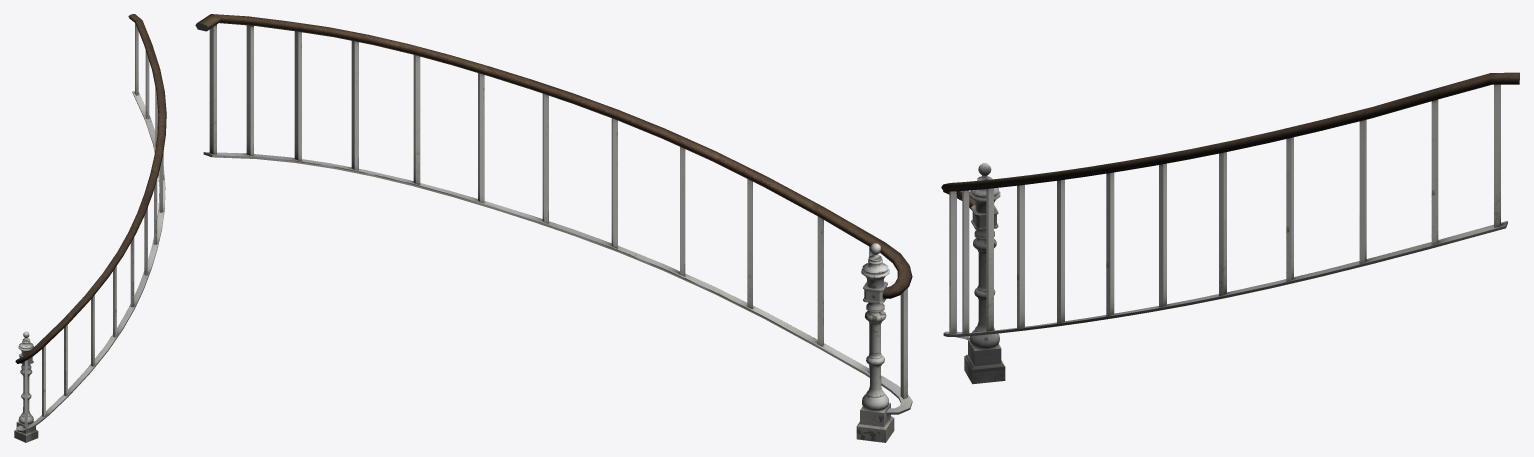
File: railing_mansion_steps01.glb
The picture shows the model from 3 angles, left to right: view 1: azimuth 30°, elevation 25°; view 2: azimuth 150°, elevation 25°; view 3: azimuth 270°, elevation 25°; orthographic projection. The views are drawn at different scales.
Parts seen in each view (by area): view 1: railing_mansion_steps01; view 2: railing_mansion_steps01; view 3: railing_mansion_steps01.
Part boxes in pixels (box(x1,y1,x2,y2)): railing_mansion_steps01: box(14, 14, 166, 442); railing_mansion_steps01: box(195, 14, 912, 442); railing_mansion_steps01: box(941, 72, 1519, 384).
Size of the model in its own units: 2.53 by 2.51 by 2.46.
1 material, 1 textured.
